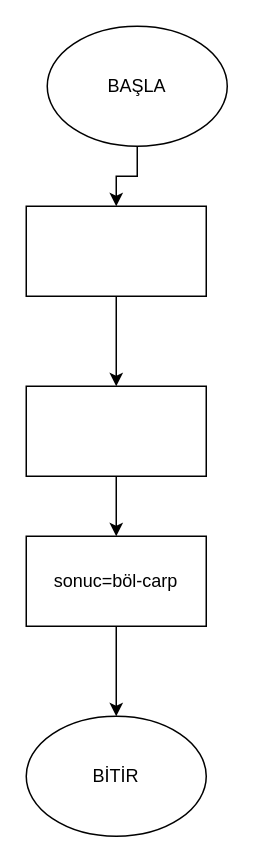
Some shapes in this 254 by 863 pixel diagram are drawn without their labels. The shapes that lost their labels are listed below. From the top down, each one's box as (x1, y1, x2, y2) in pixels, then its label:
(25, 205, 206, 296): a,b,carp,böl,sonuc
(25, 385, 206, 476): carp=(sqrt)a*(sqrt)b böl=(sqrt)a/(sqrt)b
